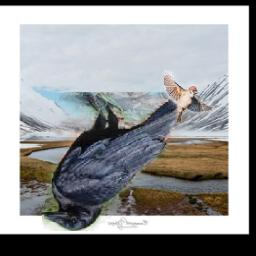Crow: (42, 93, 200, 232)
Sparrow: (163, 70, 219, 122)
